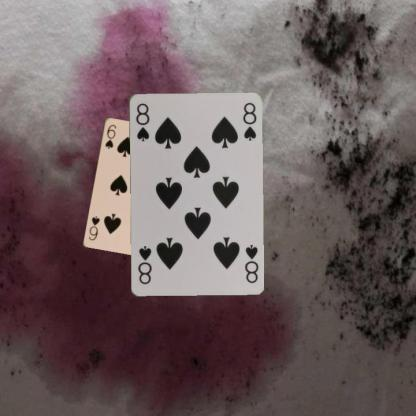6s: (102, 122, 118, 150)
8s: (242, 242, 260, 284), (133, 100, 150, 142)
